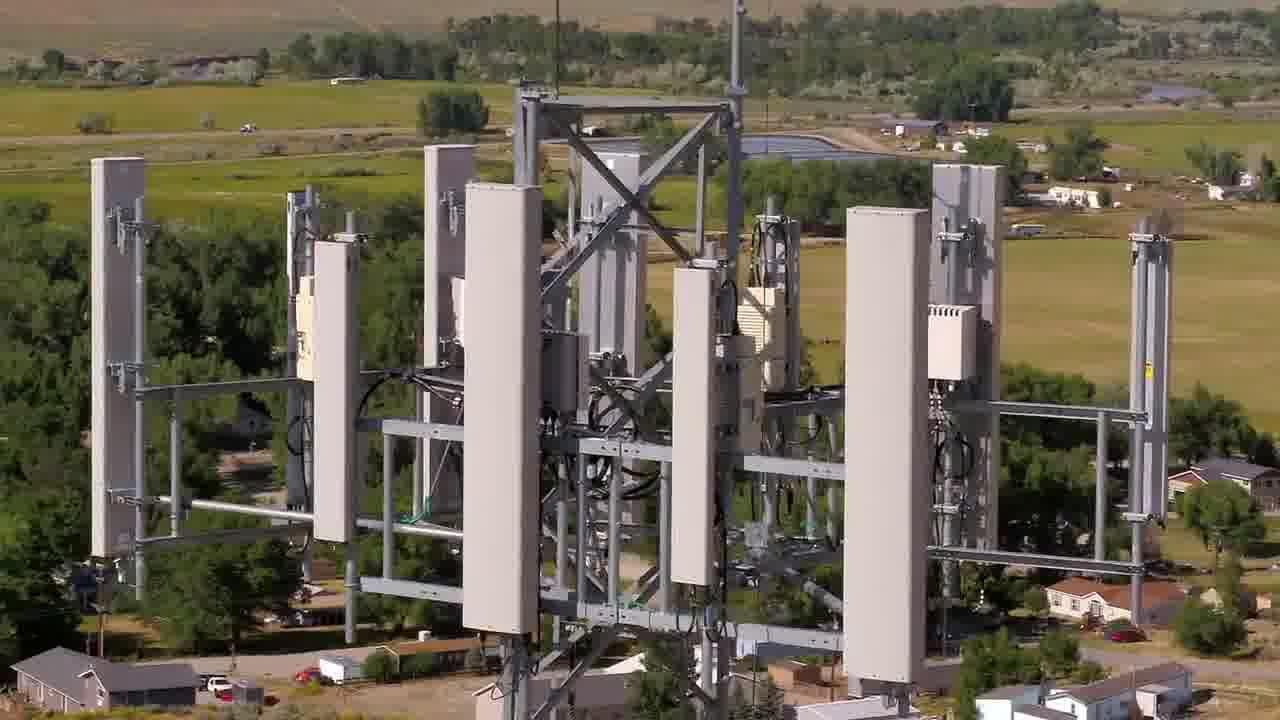antenna: (849, 190, 952, 697), (448, 172, 552, 657), (925, 149, 999, 641), (76, 144, 155, 566), (573, 137, 659, 438), (305, 233, 364, 547), (667, 253, 715, 592), (1129, 213, 1180, 530), (421, 143, 475, 402)
